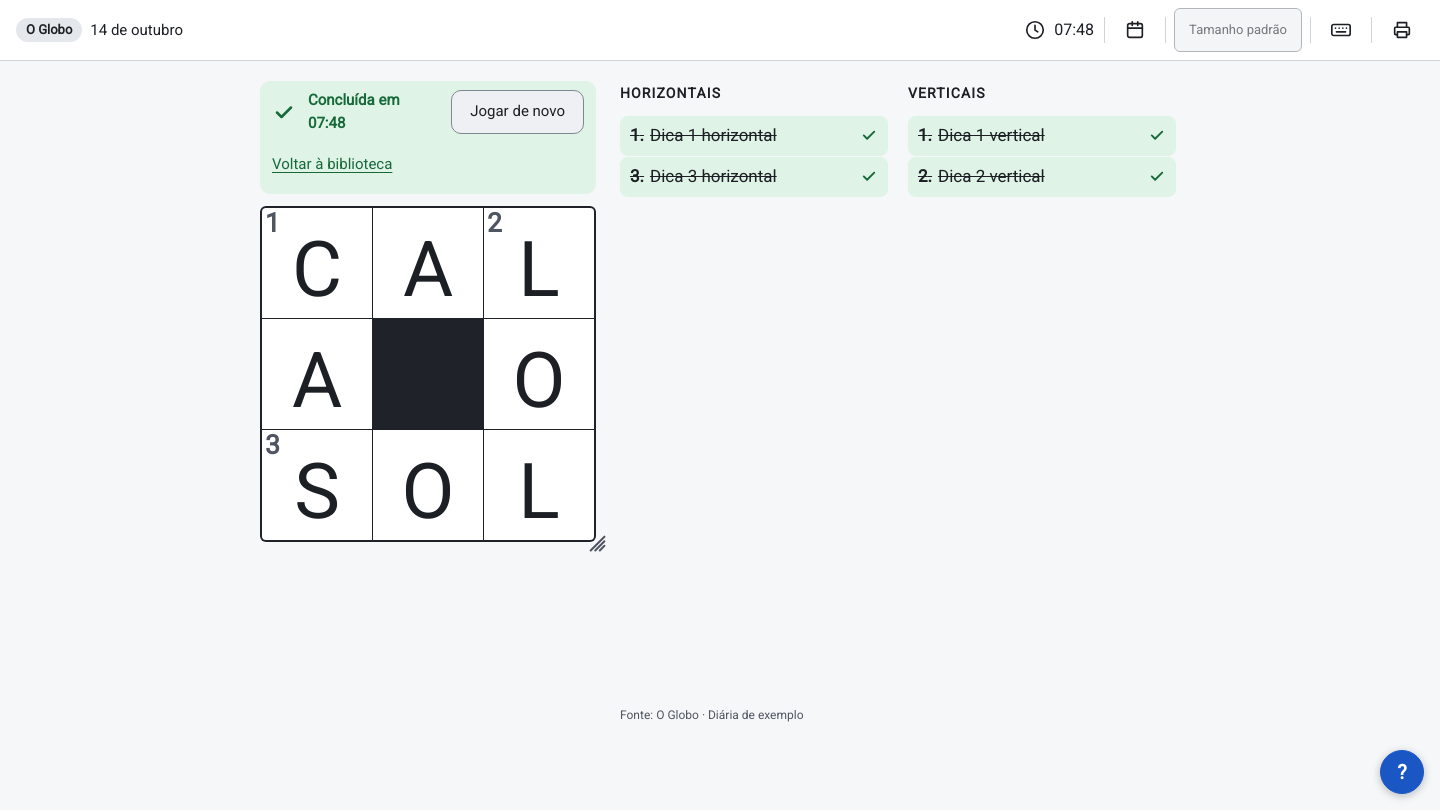
Test: modo leitura › "Jogar de novo" reinicia no servidor e volta a jogar com a grade vazia
Expected: the table is shown, [260,206,596,542]
Click the button "Jogar de novo": (518, 112) [451,90,584,134]
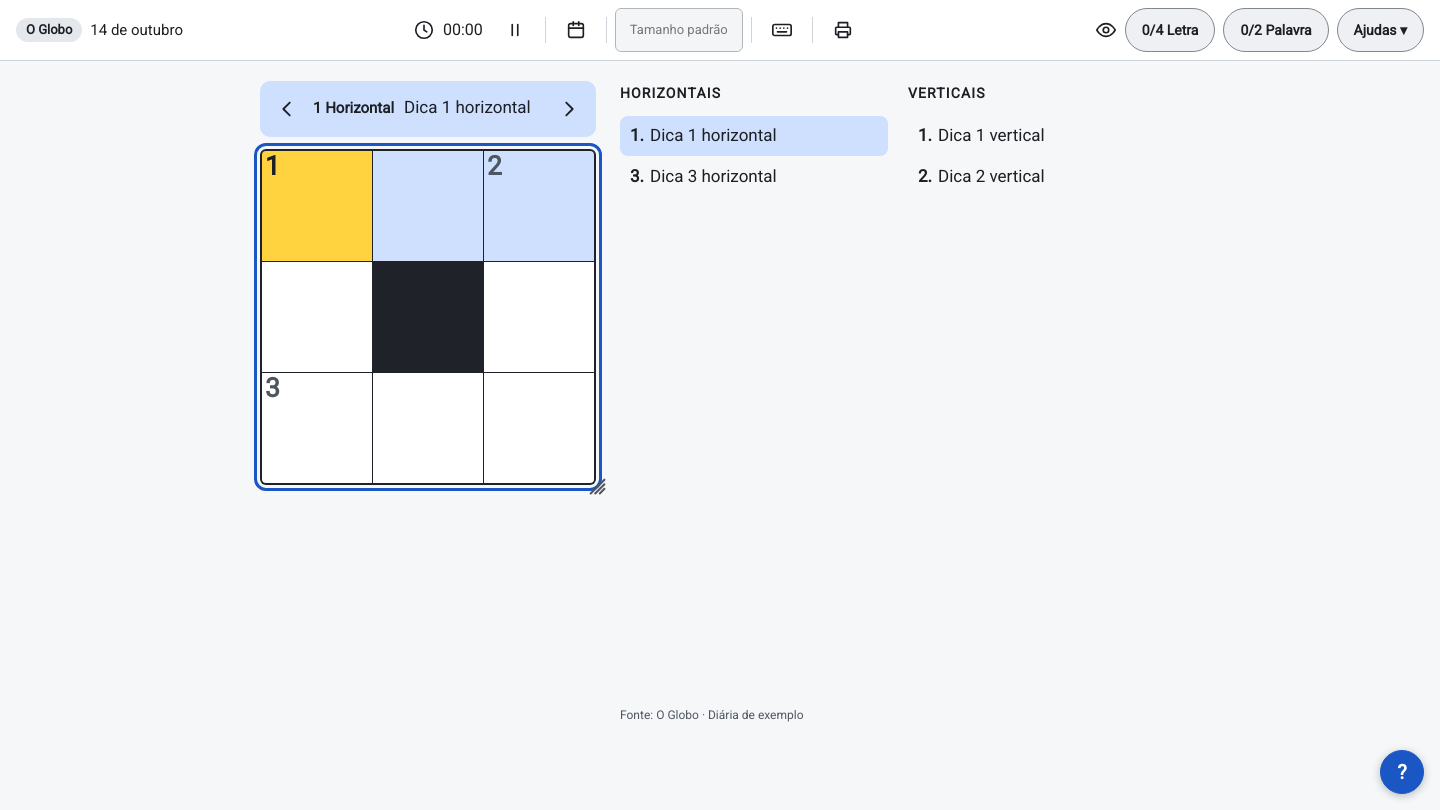
Result: the text "Concluída em" is gone
Result: the cell named "Linha 1, coluna 1, vazia" is shown at [262,151,372,261]
Result: the text "0/4 Letra" is shown at [1142,20,1198,40]
